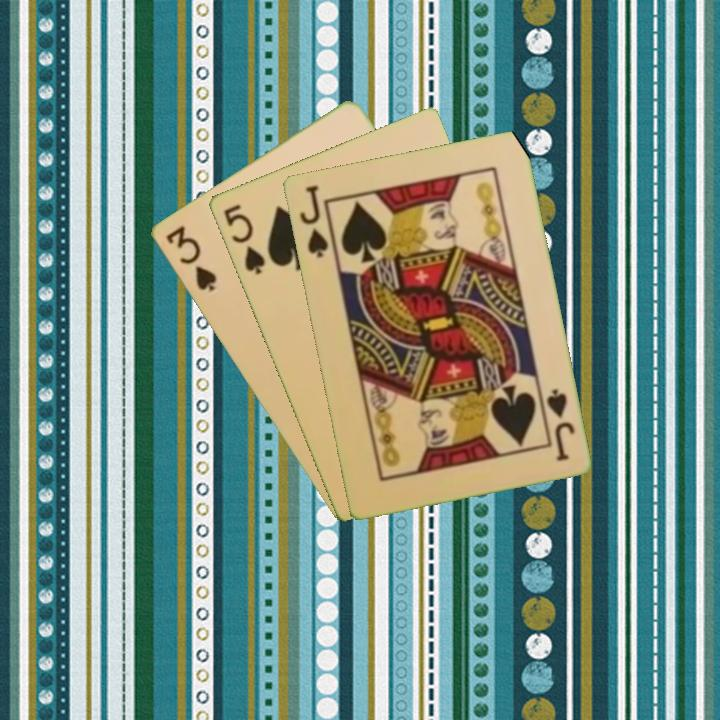3s: (162, 222, 219, 294)
5s: (219, 200, 268, 277)
Js: (295, 181, 331, 261), (542, 385, 577, 464)
